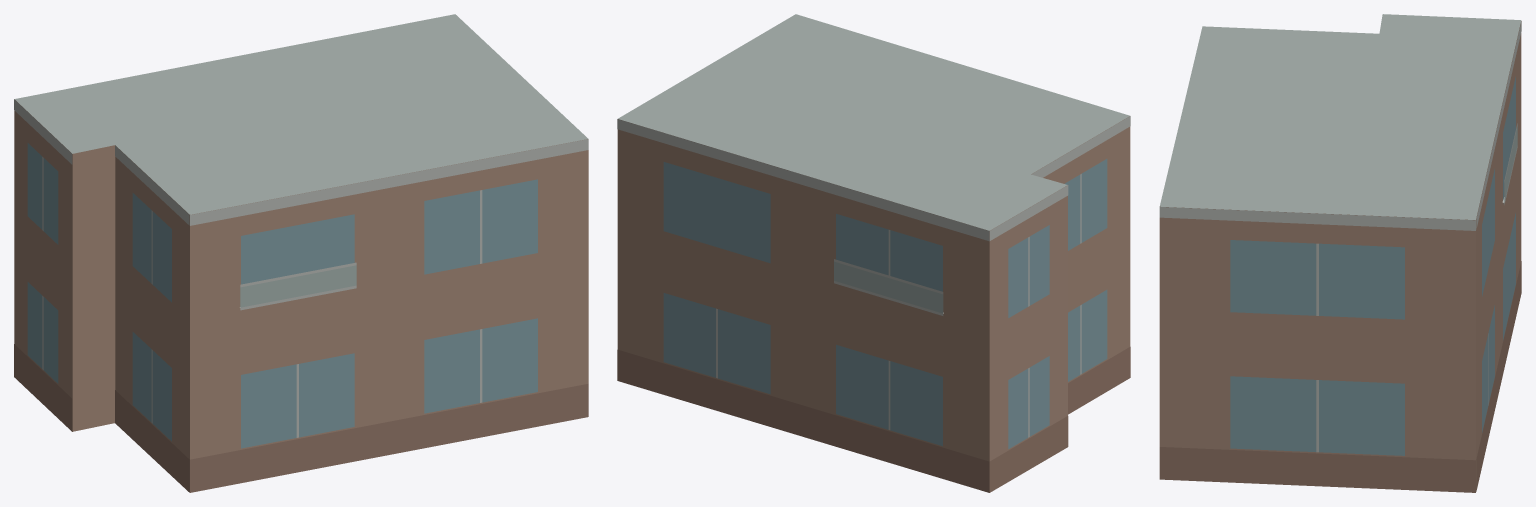
File: survey-upis-32585238.glb
3 views of the same model, side by side, from view 1: azimuth 30°, elevation 25°; view 2: azimuth 150°, elevation 25°; view 3: azimuth 270°, elevation 25° (orthographic). The views are drawn at different scales.
Parts seen in each view (by area): view 1: survey-upis-32585238.tmp; view 2: survey-upis-32585238.tmp; view 3: survey-upis-32585238.tmp.
Boxes of the visible parts, x1,y1,x2,y2 form: survey-upis-32585238.tmp: (14,14,588,492); survey-upis-32585238.tmp: (617,14,1130,492); survey-upis-32585238.tmp: (1159,14,1521,492).
Bounding box in the file's own units: 9.9 × 6.1 × 7.35.
